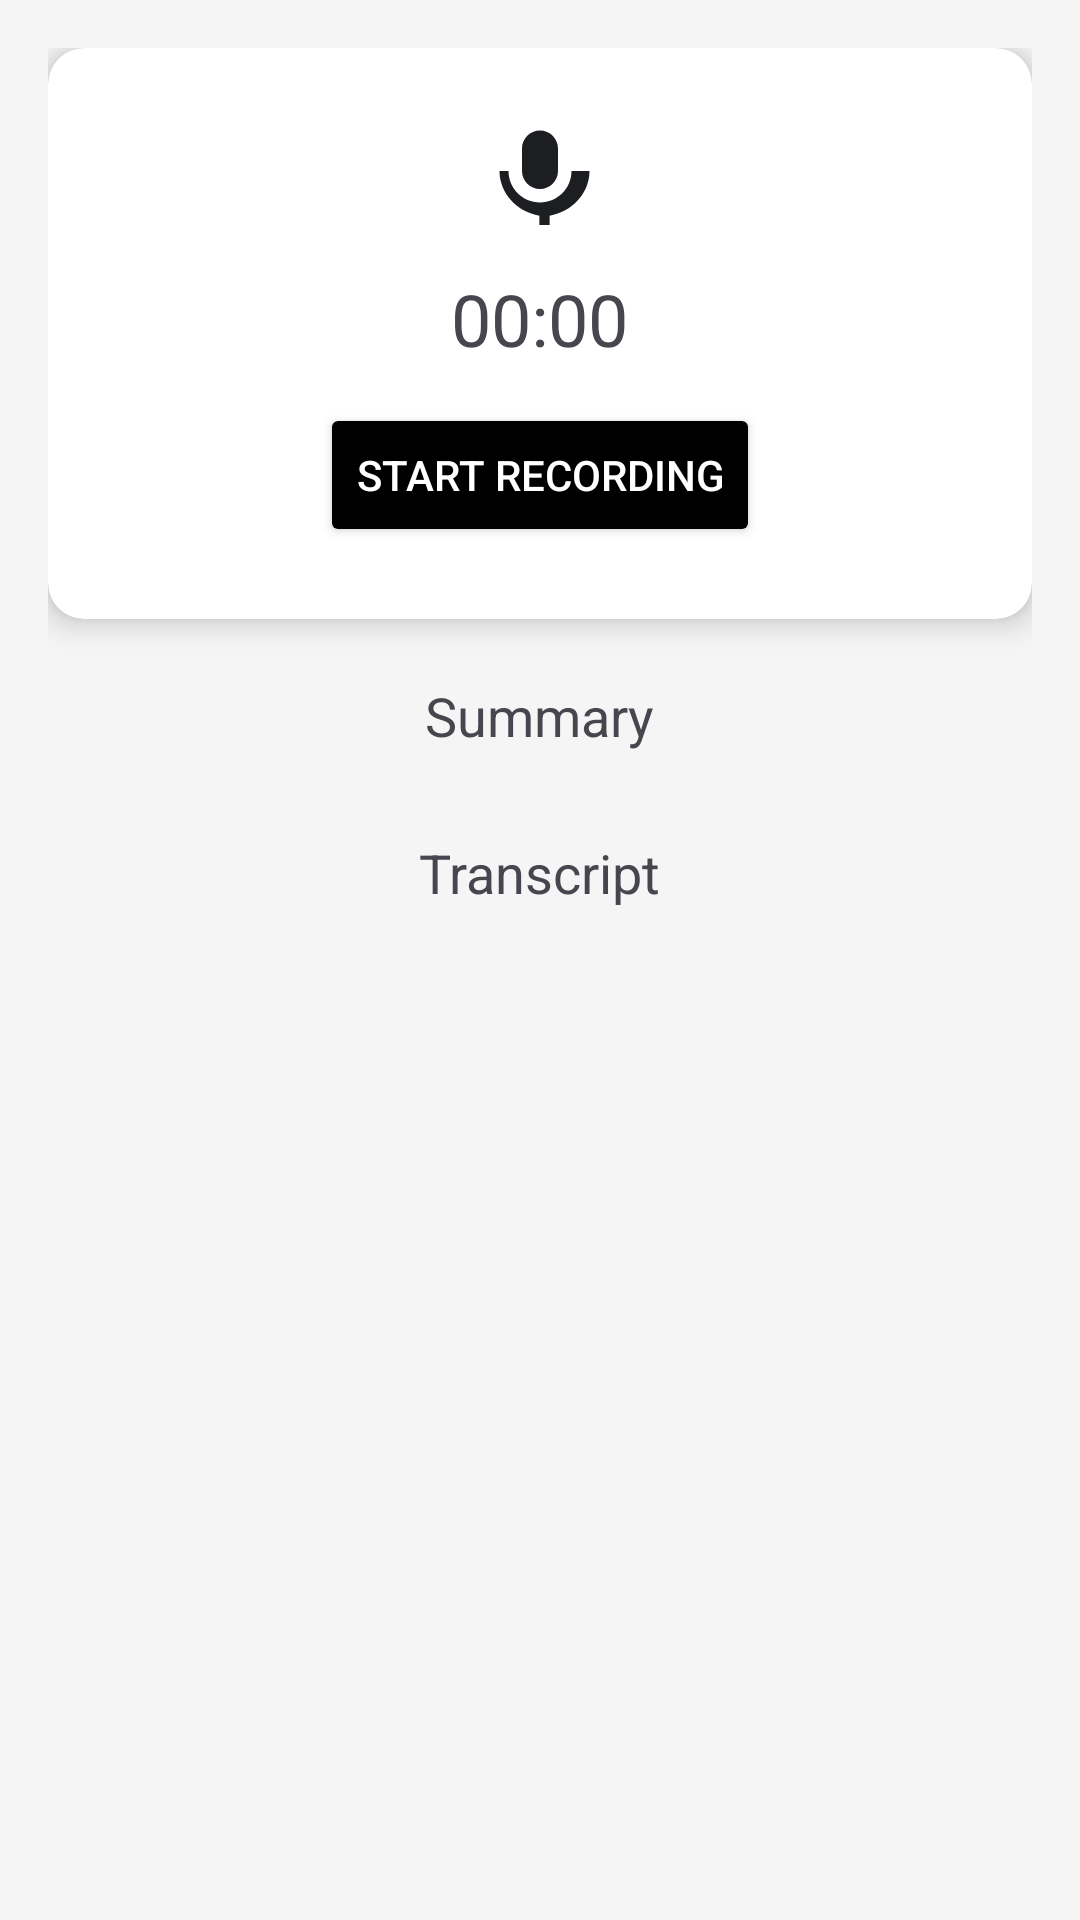

Icon click points for this 1080px×1920px phone screenshot, format (x=x, y=y):
mic: (x=544, y=177)
